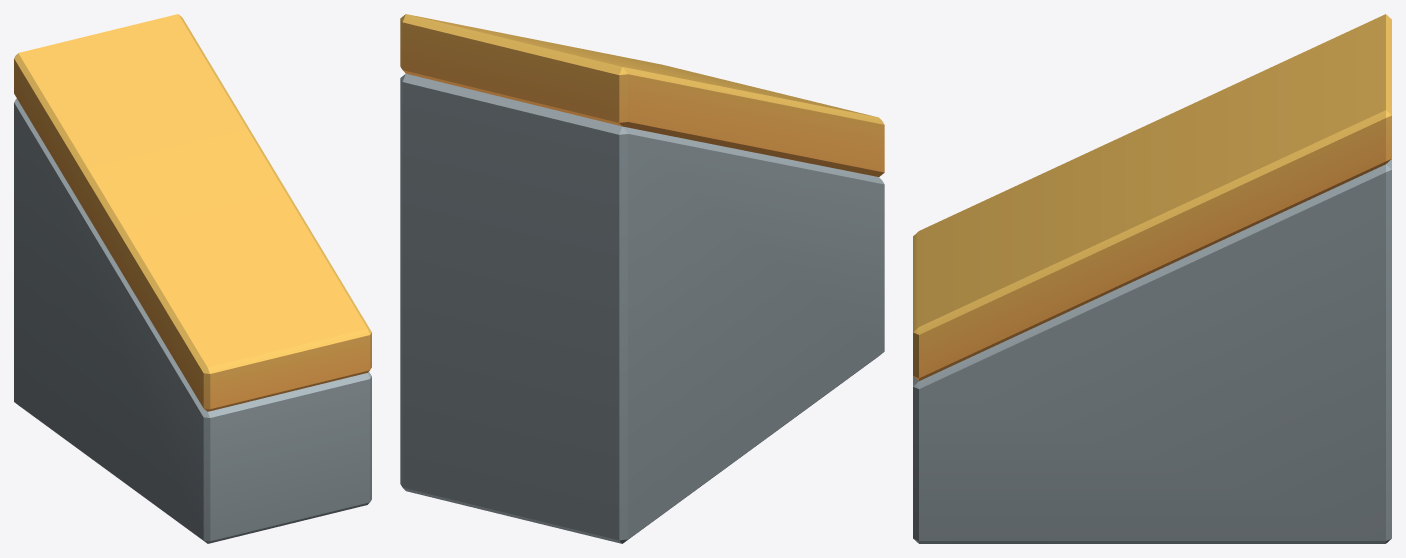
File: platform_slope_2x4x4_yellow.glb
The picture shows the model from 3 angles, left to right: view 1: azimuth 30°, elevation 25°; view 2: azimuth 150°, elevation 25°; view 3: azimuth 270°, elevation 25°; orthographic projection. The views are drawn at different scales.
Parts seen in each view (by area): view 1: platform_slope_2x4x4_yellow; view 2: platform_slope_2x4x4_yellow; view 3: platform_slope_2x4x4_yellow.
Boxes of the visible parts, box(x1,y1,x2,y2) form: platform_slope_2x4x4_yellow: box(14, 14, 371, 543); platform_slope_2x4x4_yellow: box(400, 14, 884, 543); platform_slope_2x4x4_yellow: box(913, 14, 1391, 543).
Size of the model in its own units: 2 by 4 by 4.
1 material, 1 textured.
